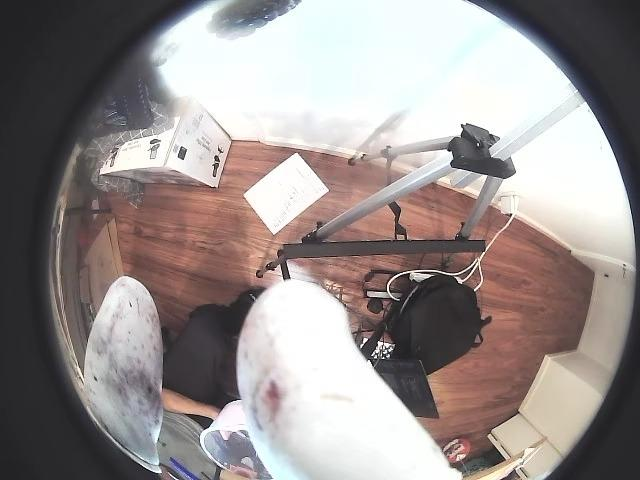berry: (208, 0, 301, 38)
gripper: (236, 279, 460, 479), (84, 276, 162, 472)
lense: (0, 0, 209, 479), (471, 0, 639, 479)
